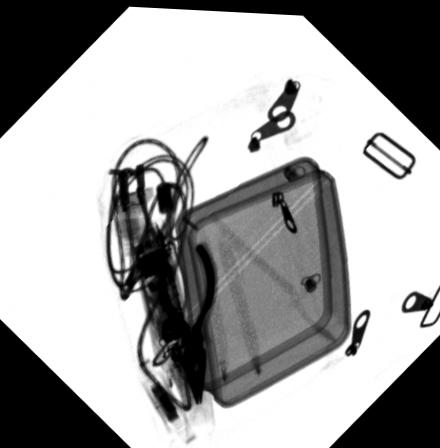Pliers: (151, 240, 216, 403)
